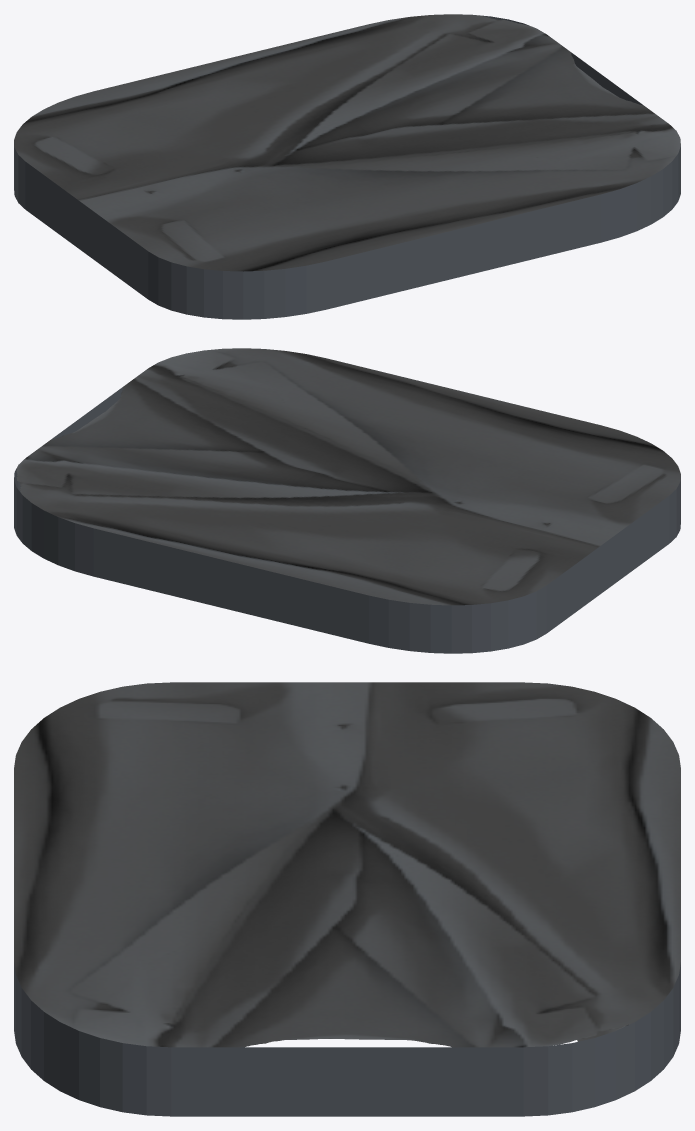
File: Hand_asset_Suits.fbx
The picture shows the model from 3 angles, top to bottom: view 1: azimuth 30°, elevation 25°; view 2: azimuth 150°, elevation 25°; view 3: azimuth 270°, elevation 25°; orthographic projection. The views are drawn at different scales.
Parts seen in each view (by area): view 1: Suit_folded; view 2: Suit_folded; view 3: Suit_folded.
Part boxes in pixels (box(x1,y1,x2,y2)): Suit_folded: box(14, 14, 680, 319); Suit_folded: box(14, 348, 680, 653); Suit_folded: box(14, 682, 680, 1116).
Size of the model in its own units: 63.62 by 5.63 by 49.15.
Materials: 2 (1 with a texture image).
